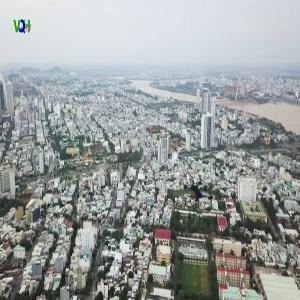drone: (172, 163, 228, 219)
